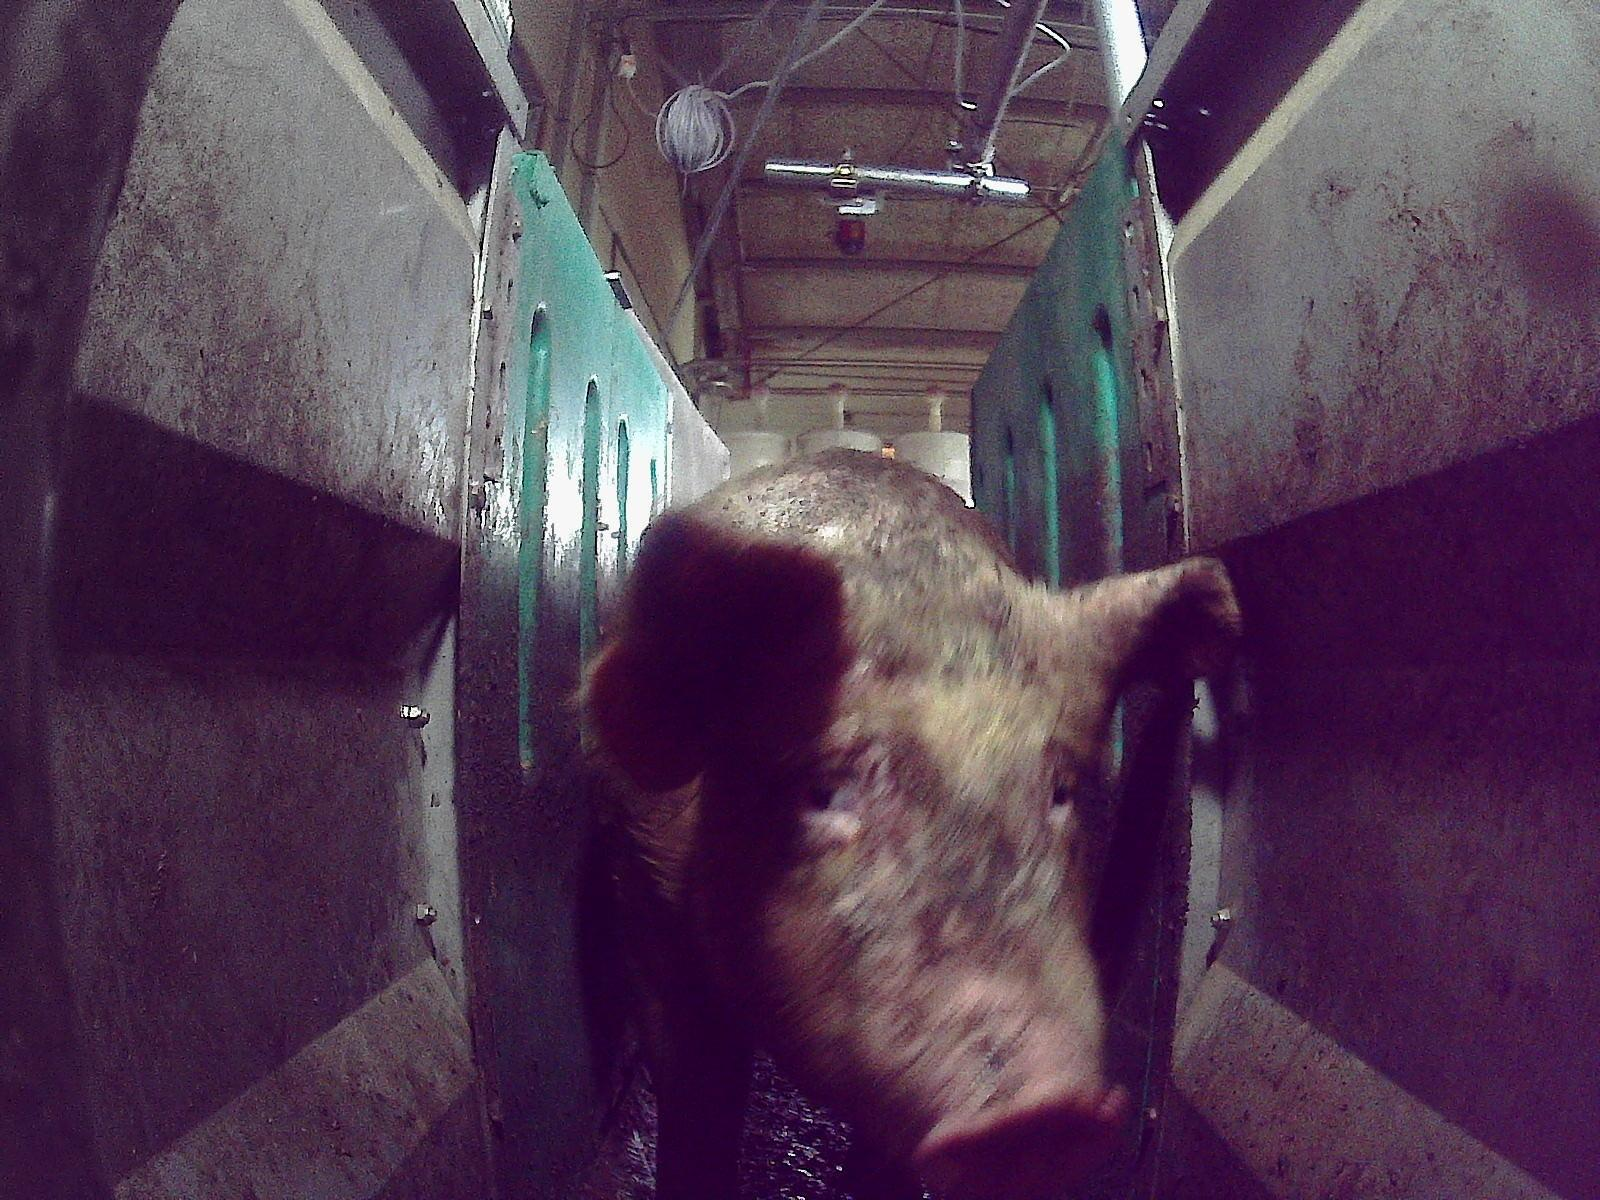Face: (699, 603, 1127, 1199)
